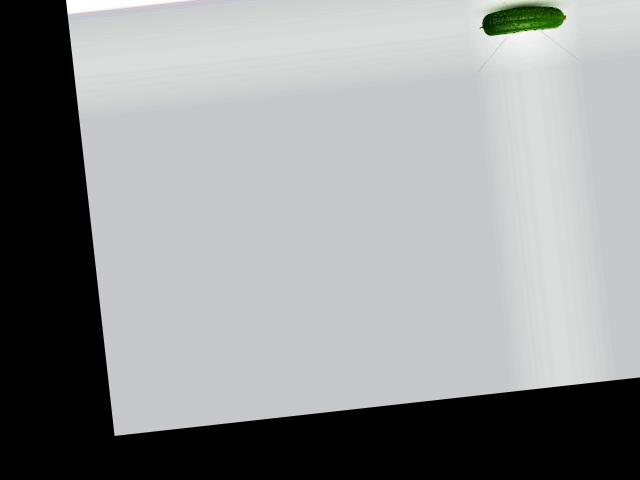cucumber: (478, 2, 568, 37)
